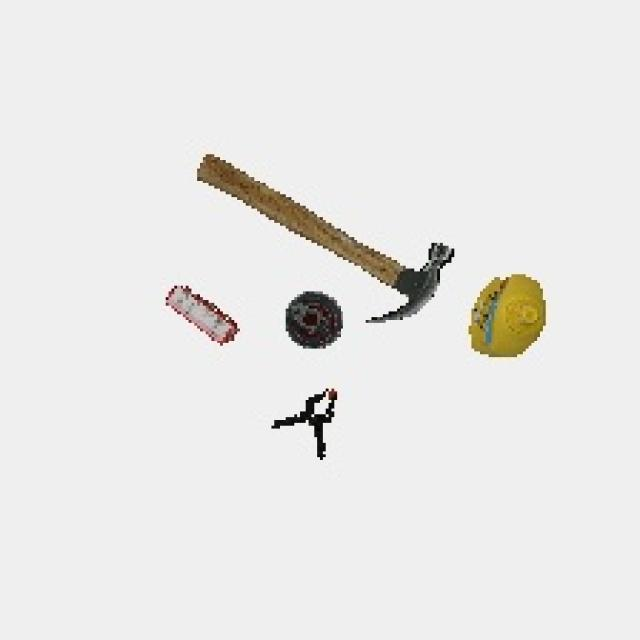GelatinBox: (158, 281, 242, 354)
MediumClamp: (266, 380, 354, 470)
MustardBottle: (462, 263, 562, 372)
TomatoSoupCan: (278, 286, 350, 351)
